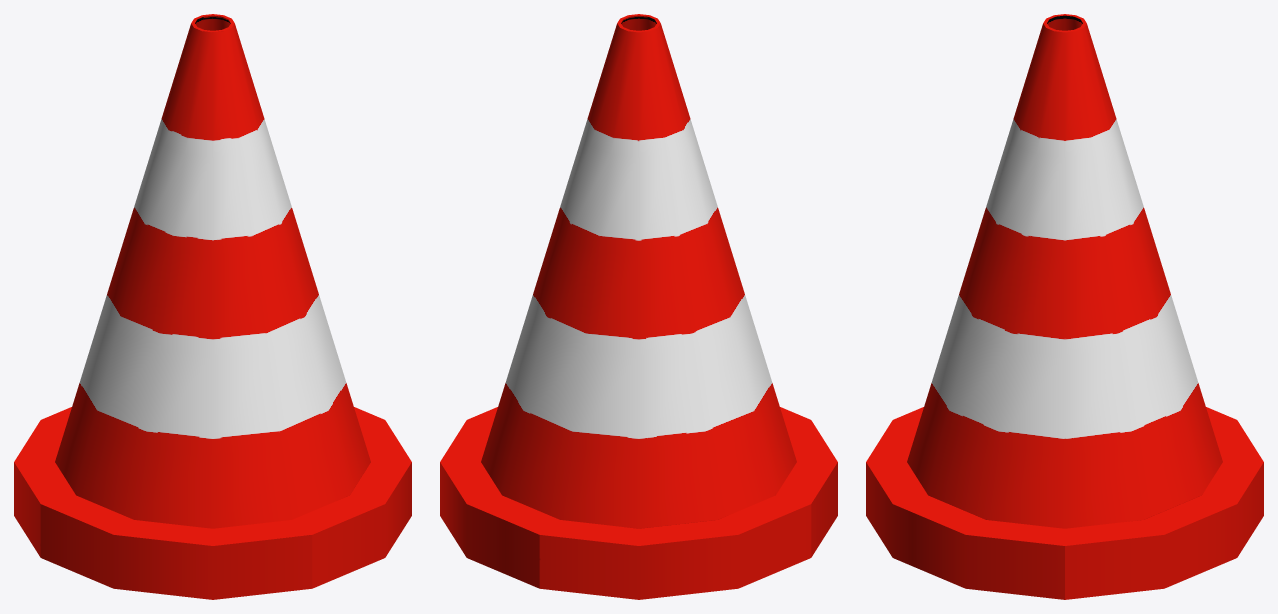
The picture shows the model from 3 angles, left to right: view 1: azimuth 30°, elevation 25°; view 2: azimuth 150°, elevation 25°; view 3: azimuth 270°, elevation 25°; orthographic projection.
Visible parts, largest first — view 1: cone_1.001; view 2: cone_1.001; view 3: cone_1.001.
Boxes of the visible parts, x1,y1,x2,y2 form: cone_1.001: (14,14,411,599); cone_1.001: (440,14,837,599); cone_1.001: (866,14,1263,599).
Size of the model in its own units: 23.35 by 31.91 by 23.35.
